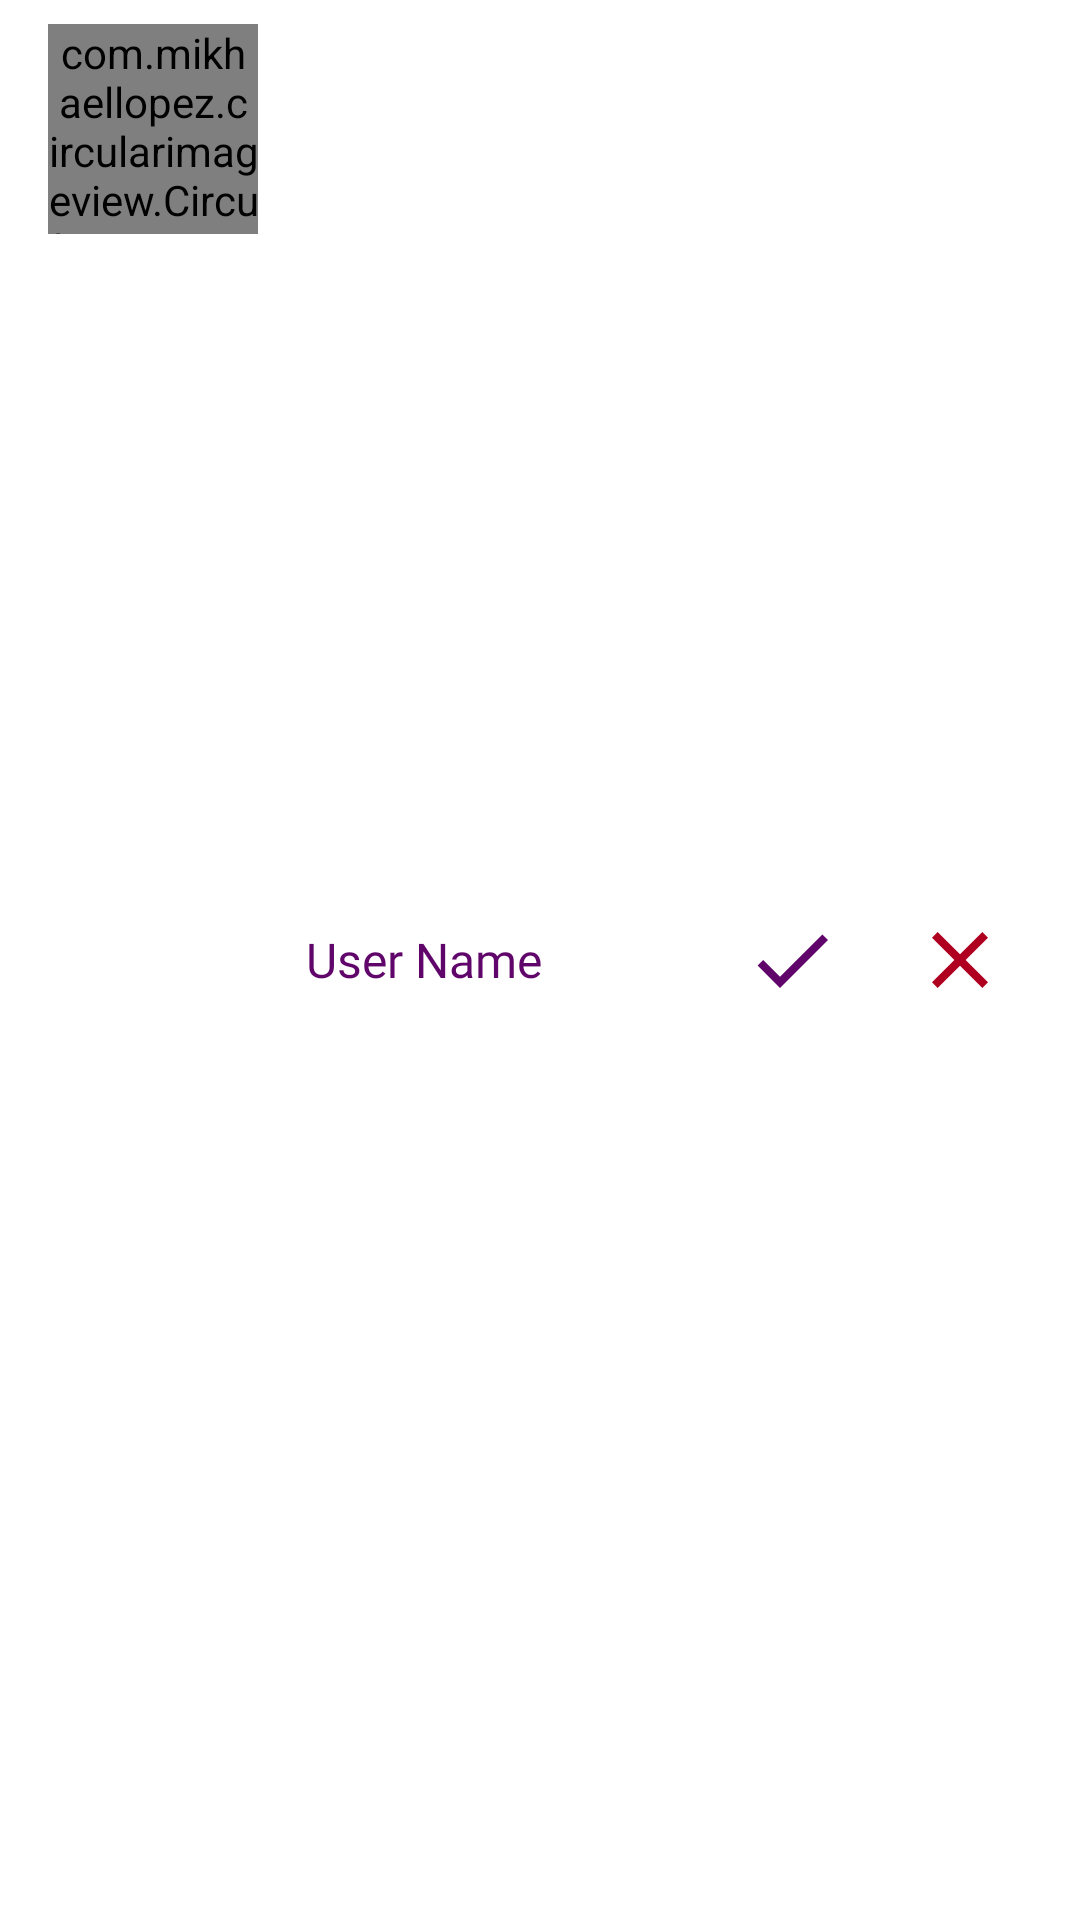

Where to tap for icons on this 1080w x 1920h app screen, as point (x, y):
accept: point (792, 961)
decline: point (960, 960)
